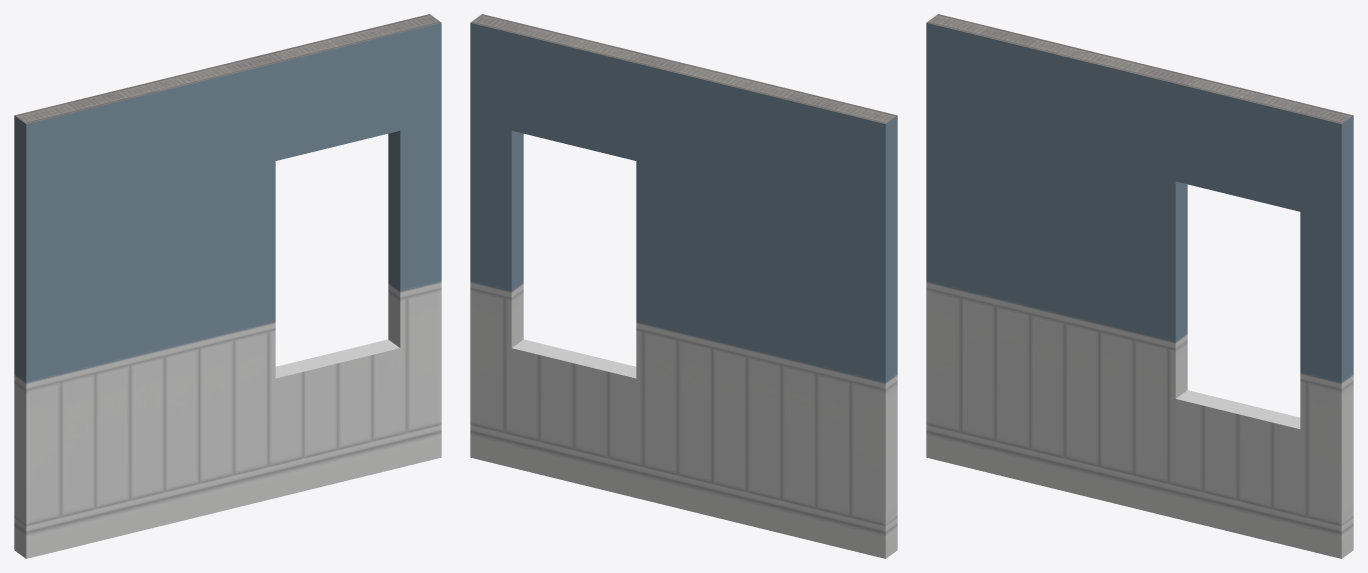
File: wall7_7.fbx
The picture shows the model from 3 angles, left to right: view 1: azimuth 30°, elevation 25°; view 2: azimuth 150°, elevation 25°; view 3: azimuth 330°, elevation 25°; orthographic projection.
Visible parts, largest first — view 1: wall7_bathroom_g; view 2: wall7_bathroom_g; view 3: wall7_bathroom_g.
Boxes of the visible parts, box(x1,y1,x2,y2) form: wall7_bathroom_g: box(14, 14, 441, 558); wall7_bathroom_g: box(470, 14, 897, 558); wall7_bathroom_g: box(926, 14, 1353, 558).
Size of the model in its own units: 400 by 400 by 20.
